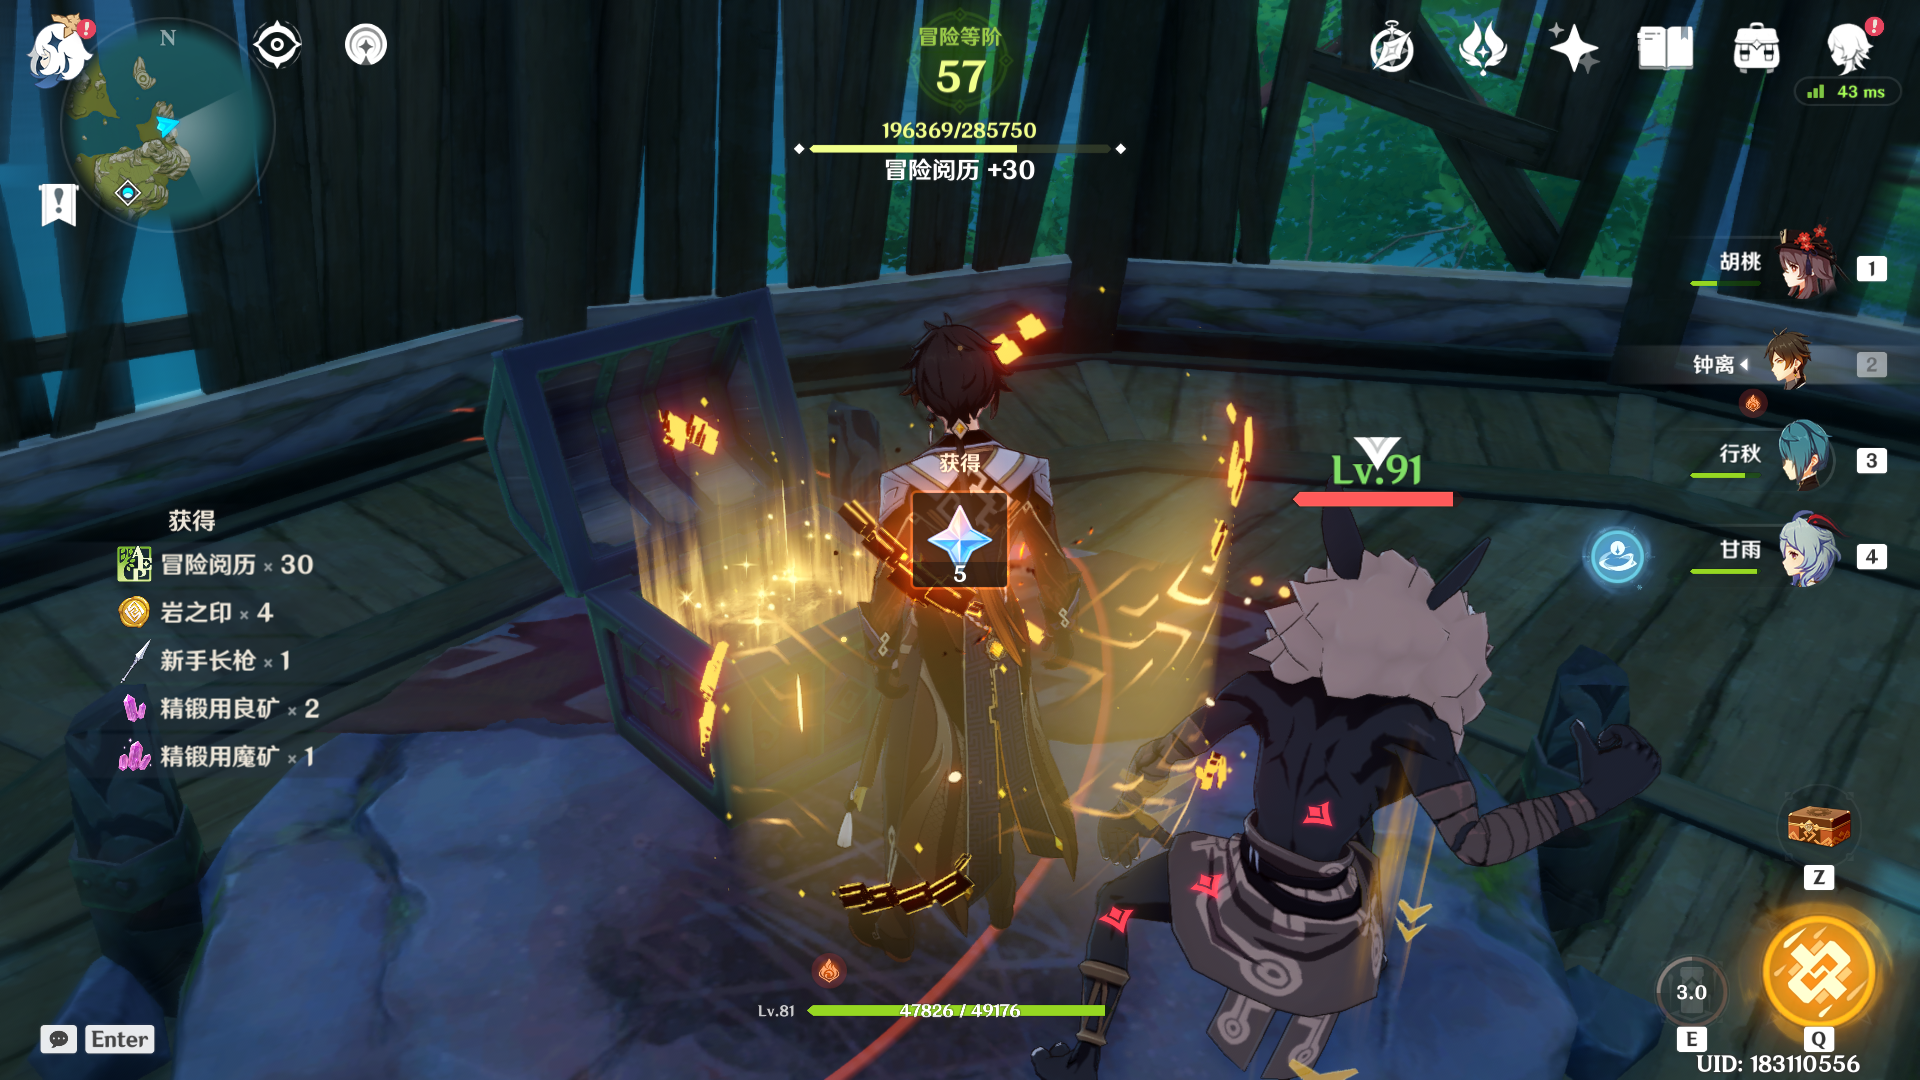character: (770, 306, 1143, 984)
hili: (1029, 465, 1693, 1080)
